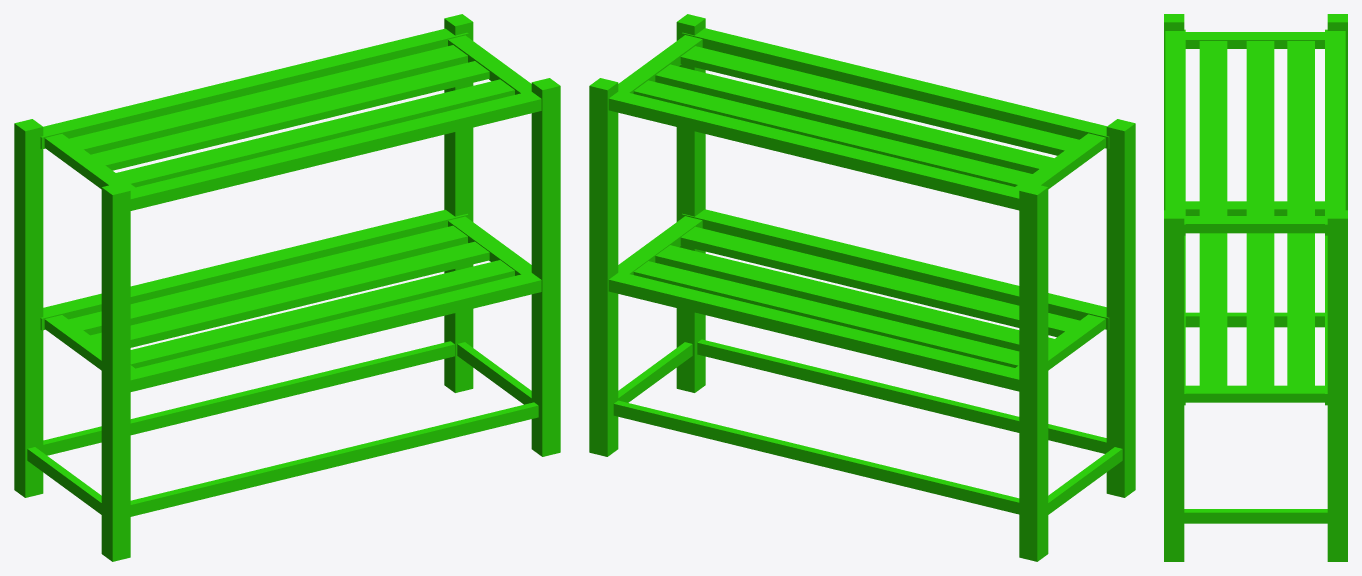
Rendered from Cupboard_14_Lod0.fbx.
3 views of the same model, side by side, from view 1: azimuth 30°, elevation 25°; view 2: azimuth 150°, elevation 25°; view 3: azimuth 270°, elevation 25° (orthographic). The views are drawn at different scales.
Visible parts, largest first — view 1: Cupboard_14_Lod0; view 2: Cupboard_14_Lod0; view 3: Cupboard_14_Lod0.
Boxes of the visible parts, <box> form: Cupboard_14_Lod0: <box>14,14,560,561</box>; Cupboard_14_Lod0: <box>589,14,1135,561</box>; Cupboard_14_Lod0: <box>1164,14,1347,561</box>.
Bounding box in the file's own units: 136 × 107 × 51.7.
